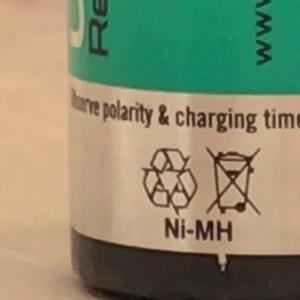keyword: (155, 210, 242, 249)
